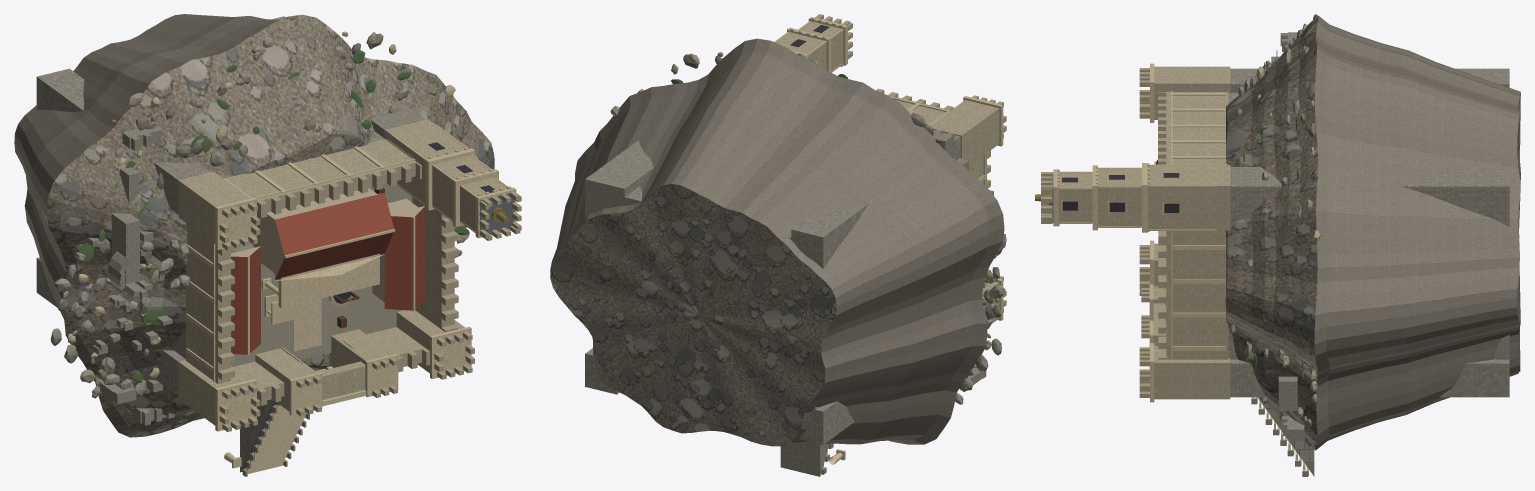
File: Buryfort_Compact.glb
The picture shows the model from 3 angles, left to right: view 1: azimuth 30°, elevation 25°; view 2: azimuth 150°, elevation 25°; view 3: azimuth 270°, elevation 25°; orthographic projection. The views are drawn at different scales.
Parts seen in each view (by area): view 1: Buryfort_rubble, Buryfort_fort, Buryfort_trim, Buryfort_older, Buryfort_soil, Buryfort_roof, Buryfort_paving, Buryfort_plaster, Buryfort_moss, Buryfort_slate; view 2: Buryfort_soil, Buryfort_older, Buryfort_fort, Buryfort_trim; view 3: Buryfort_soil, Buryfort_fort, Buryfort_rubble, Buryfort_older, Buryfort_trim, Buryfort_dark.
Boxes of the visible parts, x1,y1,x2,y2 form: Buryfort_rubble: (47, 14, 494, 437); Buryfort_fort: (63, 31, 521, 431); Buryfort_trim: (186, 124, 516, 473); Buryfort_older: (36, 16, 467, 476); Buryfort_soil: (14, 14, 279, 318); Buryfort_roof: (231, 193, 425, 354); Buryfort_paving: (231, 183, 412, 366); Buryfort_plaster: (231, 187, 424, 301); Buryfort_moss: (76, 50, 468, 382); Buryfort_slate: (480, 193, 514, 235); Buryfort_soil: (550, 38, 1004, 446); Buryfort_older: (585, 53, 1006, 476); Buryfort_fort: (610, 14, 1006, 389); Buryfort_trim: (774, 17, 1003, 474); Buryfort_soil: (1314, 15, 1520, 450); Buryfort_fort: (1041, 23, 1320, 438); Buryfort_rubble: (1225, 15, 1318, 450); Buryfort_older: (1228, 14, 1509, 476); Buryfort_trim: (1053, 63, 1308, 475); Buryfort_dark: (1062, 173, 1179, 212).
Size of the model in its own units: 108 by 103 by 104.
Materials: 14 (14 with a texture image).
